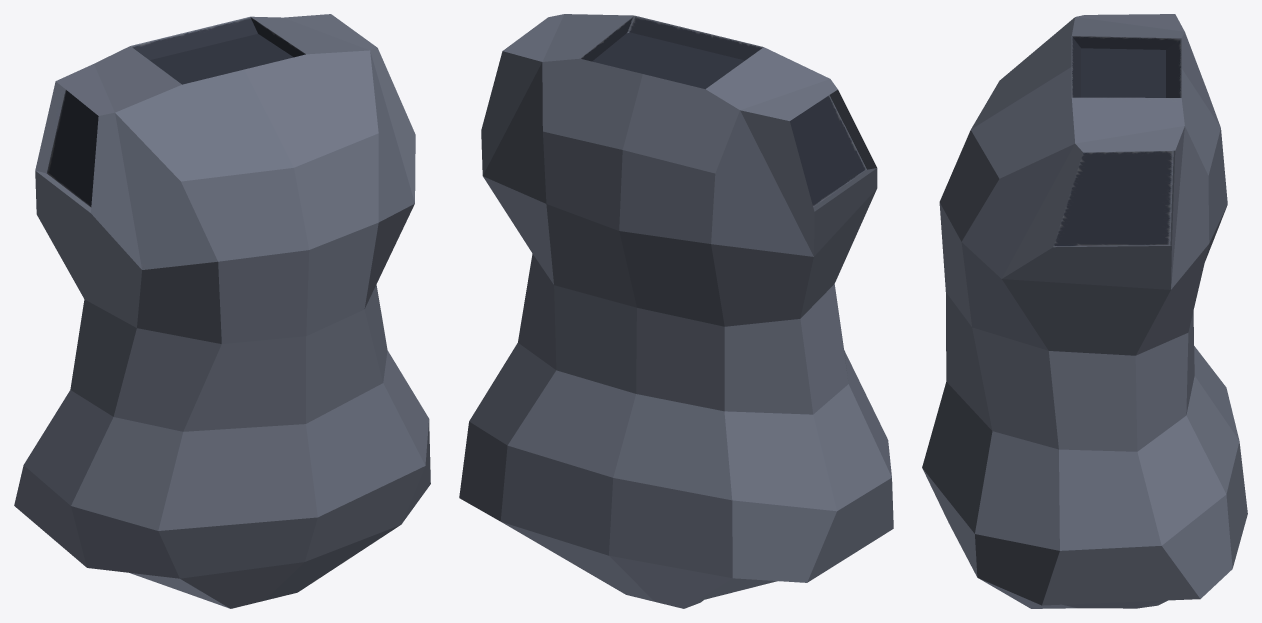
File: New_Torso.fbx
3 views of the same model, side by side, from view 1: azimuth 30°, elevation 25°; view 2: azimuth 150°, elevation 25°; view 3: azimuth 270°, elevation 25° (orthographic). The views are drawn at different scales.
Parts seen in each view (by area): view 1: Torso; view 2: Torso; view 3: Torso.
Boxes of the visible parts, left/top/right/bottom form: Torso: left=14, top=14, right=430, bottom=608; Torso: left=459, top=14, right=893, bottom=608; Torso: left=922, top=14, right=1247, bottom=608.
Bounding box in the file's own units: 2.47 × 3.4 × 1.91.
